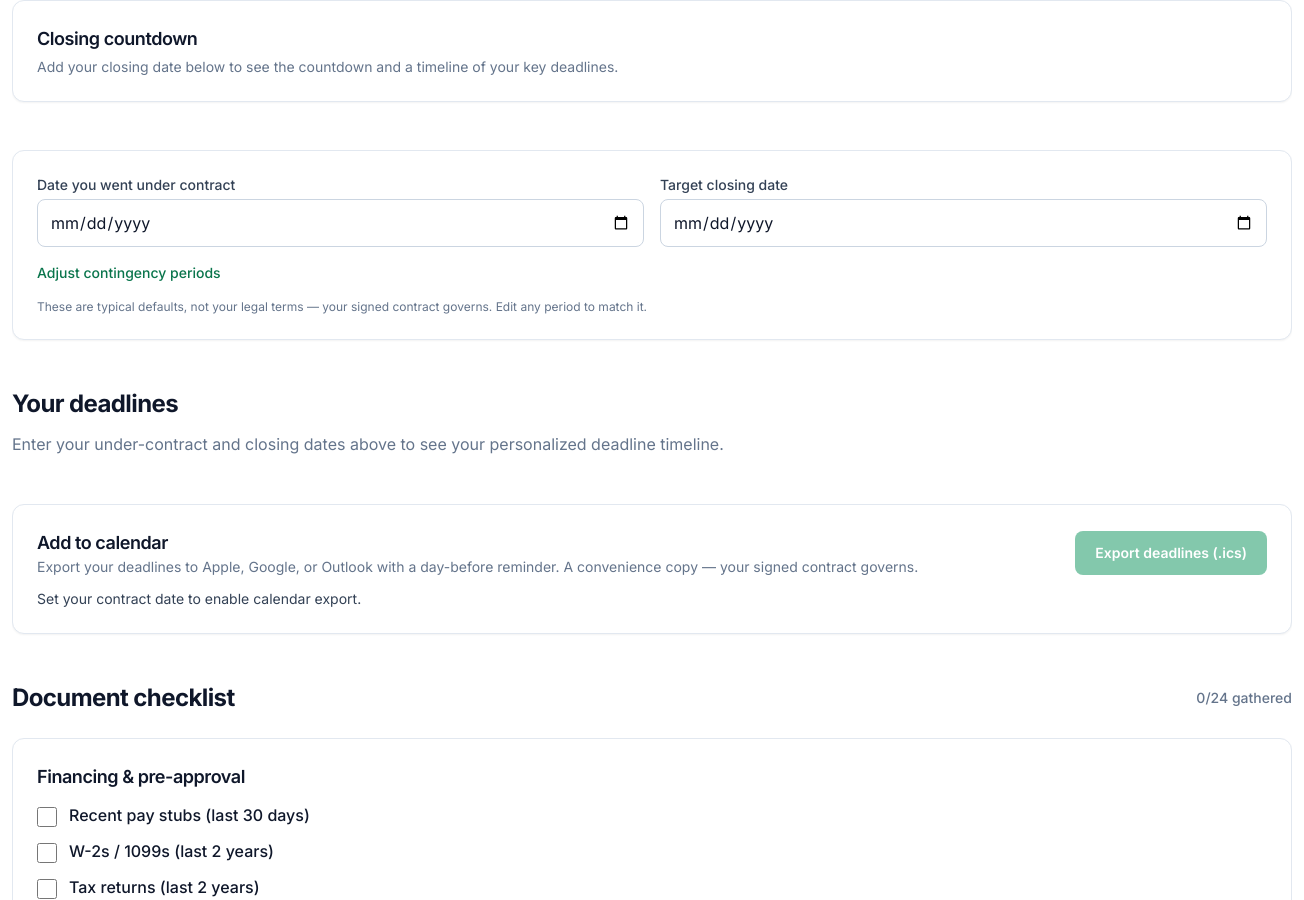
Test case: TrackerApp › flags dates entered out of order
Type "2026-08-15" into the date field labelled "Date you went under contract". click: (340, 223)
box: [37,199,644,247]
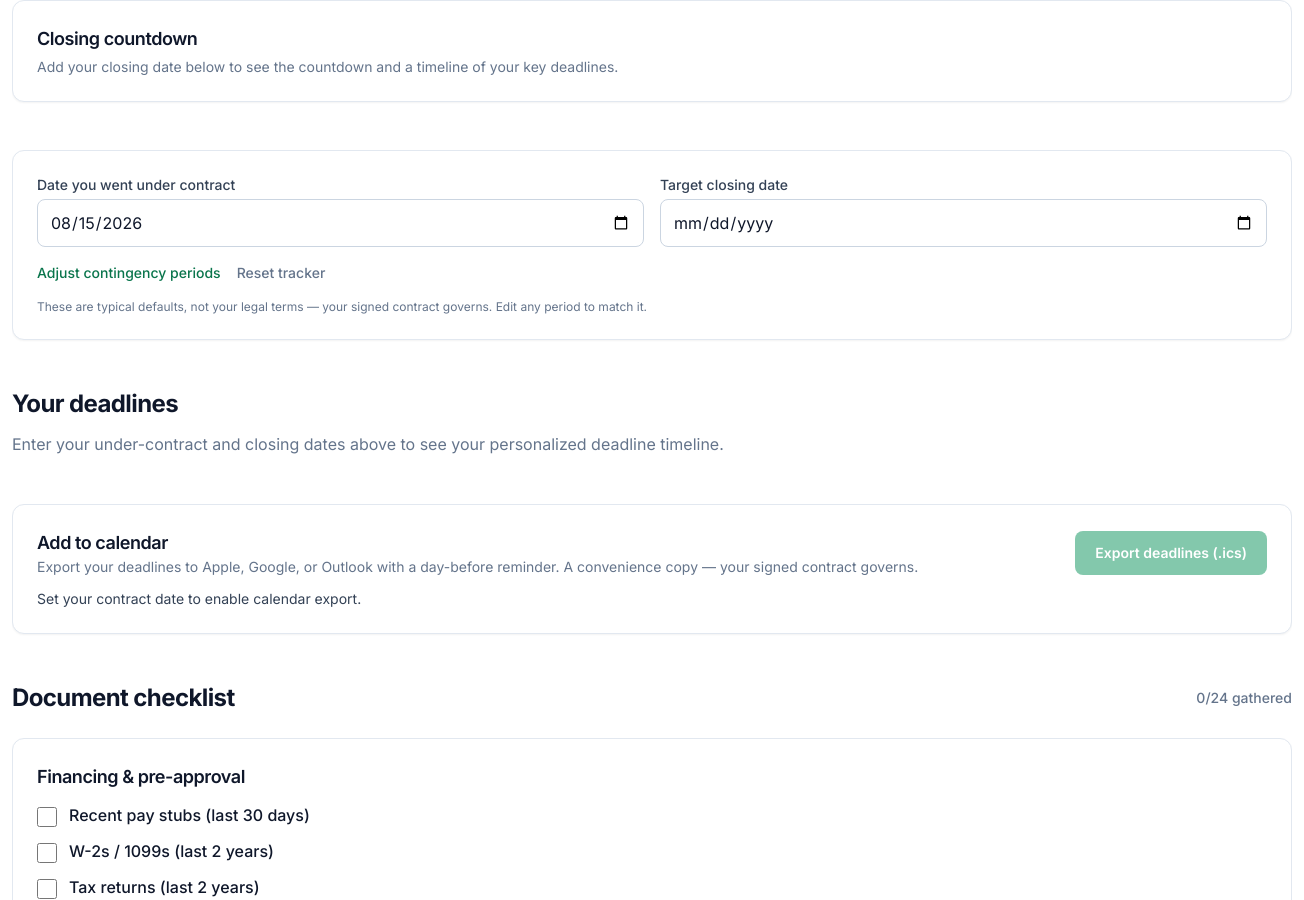
Type "2026-07-01" into the date field labelled "Target closing date". click: (964, 223)
box: [660,199,1267,247]
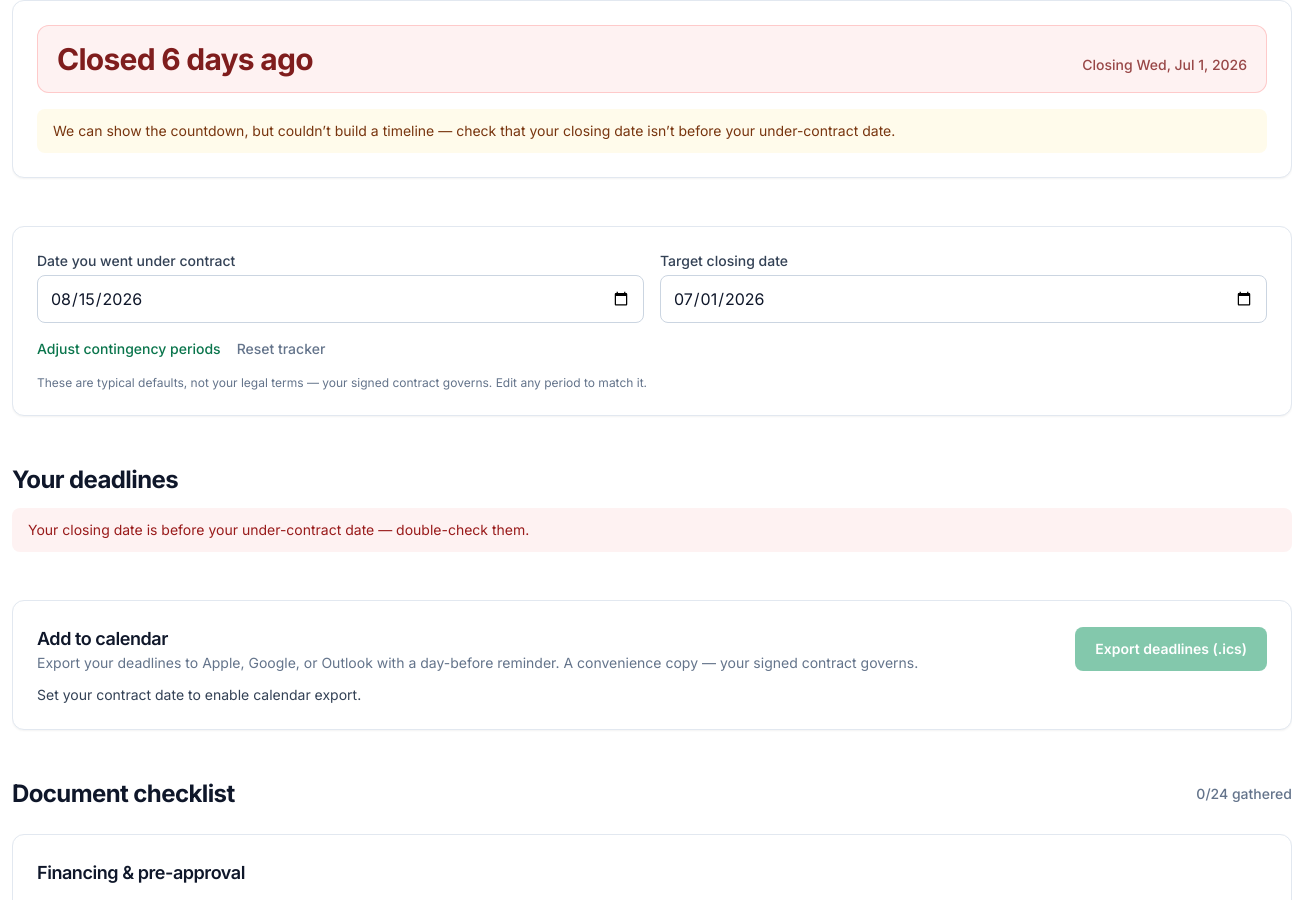
Result: the text "closing date is before your under-contract date" is shown at [28,521,529,538]
